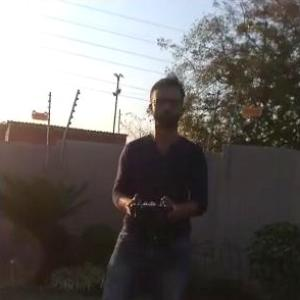follow: (97, 68, 214, 299)
